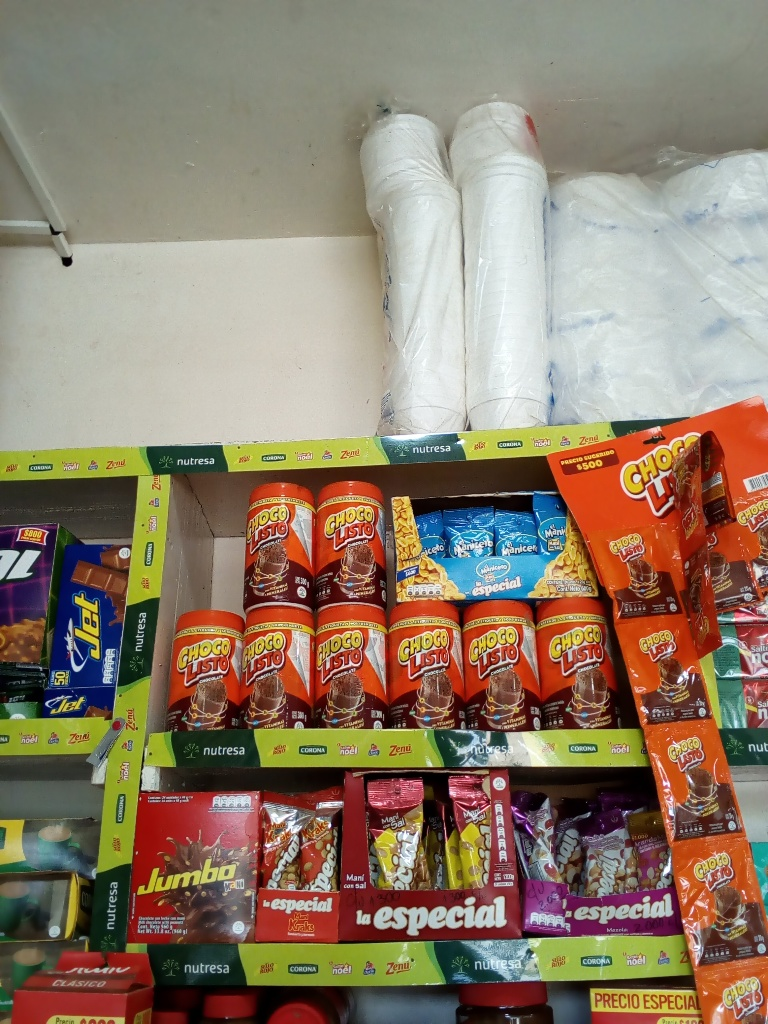COL0170103SOB02000: (589, 483, 697, 612)
